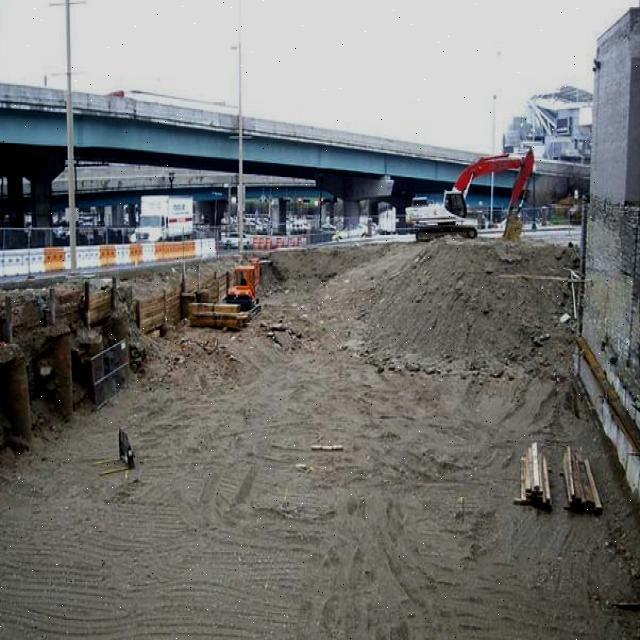Excavator: (404, 144, 536, 246)
